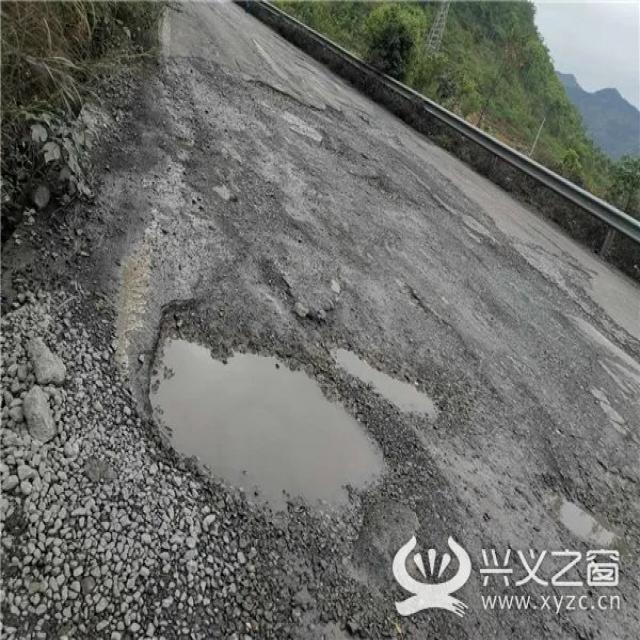Pothole: (143, 312, 390, 544), (327, 340, 444, 427), (545, 482, 627, 566)
